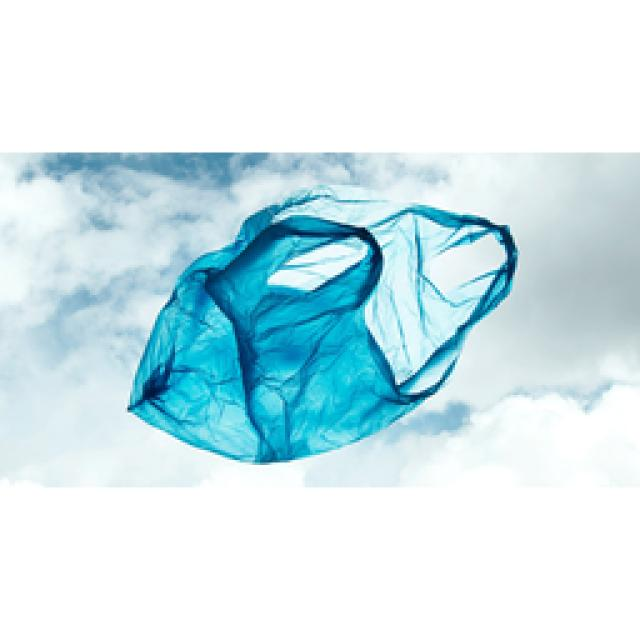plastic: (130, 190, 515, 460)
